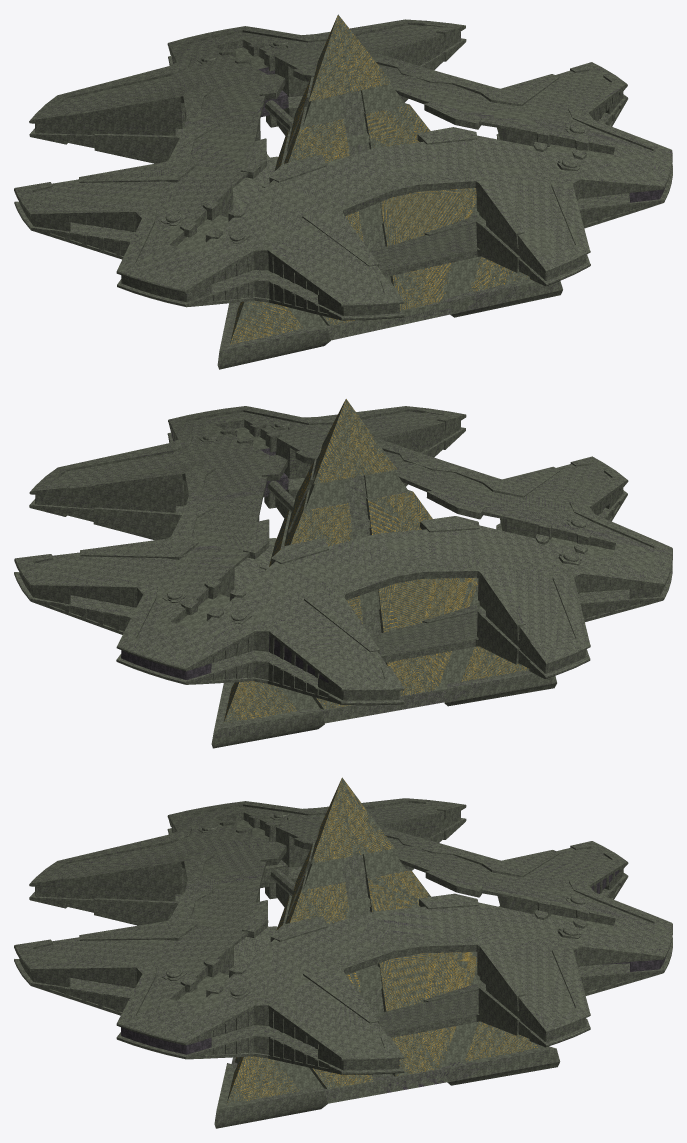
The model's file is Goa'uld Ha'tak Version One.dae.
3 renders of one model, top to bottom at view 1: azimuth 30°, elevation 25°; view 2: azimuth 150°, elevation 25°; view 3: azimuth 270°, elevation 25°, orthographic.
Visible parts, largest first — view 1: Component_6; view 2: Component_6; view 3: Component_6.
Boxes of the visible parts, x1,y1,x2,y2 form: Component_6: (14, 14, 672, 369); Component_6: (14, 399, 672, 748); Component_6: (14, 777, 672, 1128).
Bounding box in the file's own units: 758 × 764 × 367.
Materials: 3 (3 with a texture image).
